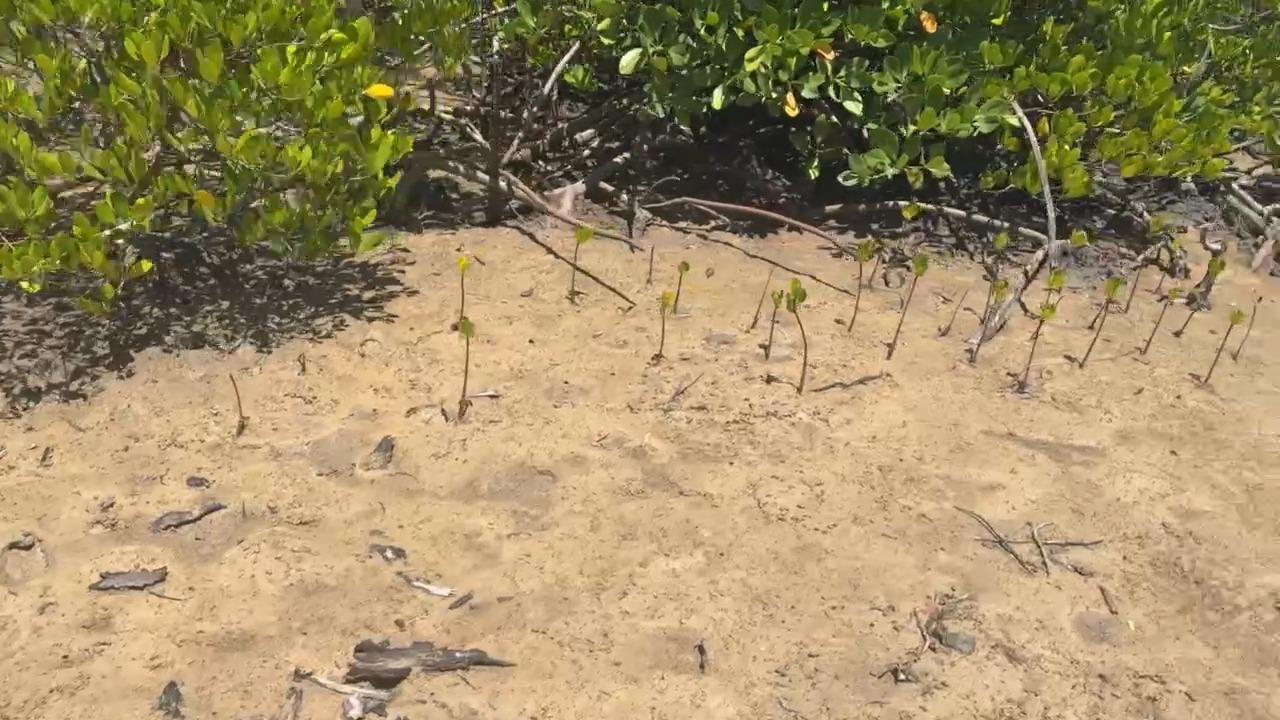Tree: (885, 253, 929, 359), (1080, 277, 1123, 370), (1178, 260, 1226, 336), (1019, 300, 1057, 390), (971, 281, 1009, 362), (1204, 310, 1244, 382), (1031, 263, 1068, 338), (785, 277, 808, 394), (981, 232, 1010, 320), (847, 239, 874, 332), (1143, 288, 1178, 353), (569, 224, 594, 301), (458, 316, 475, 419), (764, 290, 785, 359), (452, 256, 471, 330), (751, 269, 774, 329), (941, 290, 968, 336), (1234, 304, 1257, 357), (1125, 263, 1146, 313), (657, 292, 673, 357), (230, 373, 245, 437), (1090, 278, 1108, 329), (672, 260, 690, 308), (649, 245, 654, 282)
